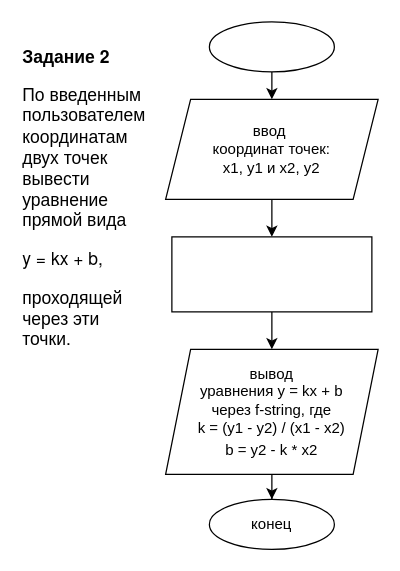
This 400x571 diagram has some shape labels left out. The centre of each missing label's shape, as x and y in pixels:
начало: point 271,46
перевод "на лету" x1, y1 и x2, y2 в тип данных float: point 271,274
